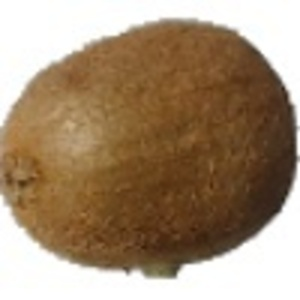kiwi: (1, 17, 300, 287)
